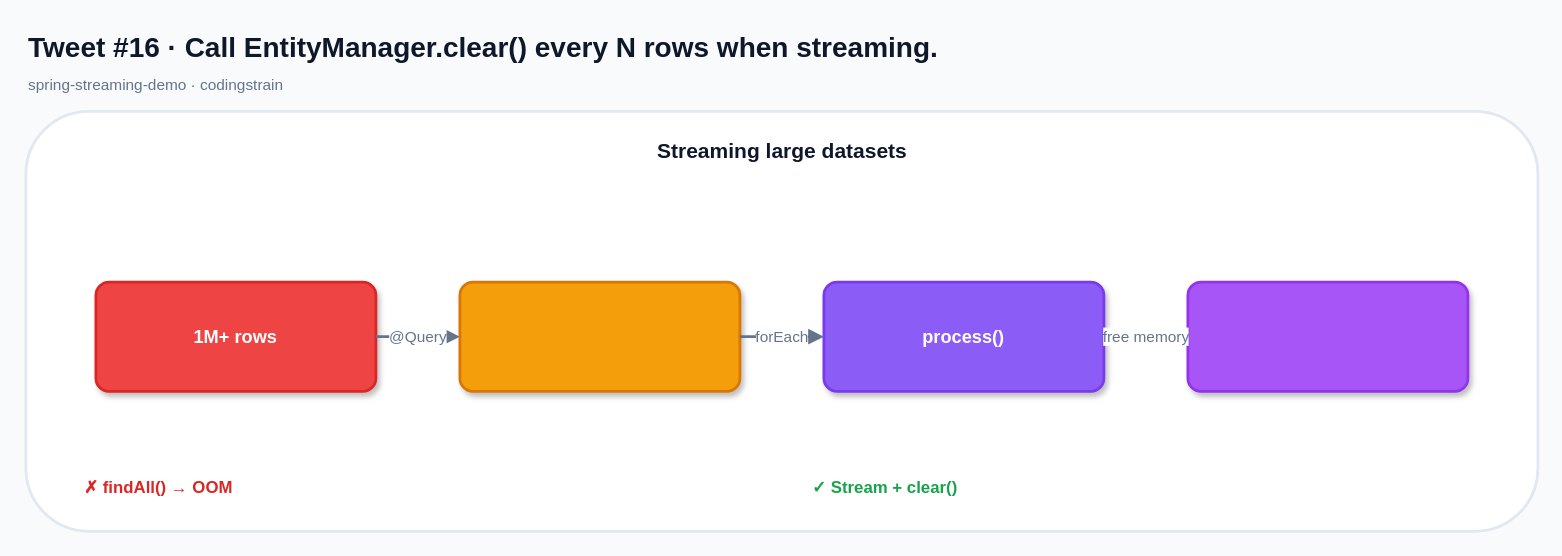
This 1562x556 diagram has some shape labels left out. The shapes that lost their labels are listed below. From the top down, each one's centre as x and y in pixels, then its label:
At point 600,338: "Stream<User>".
At point 1328,338: "em.clear() every N".
